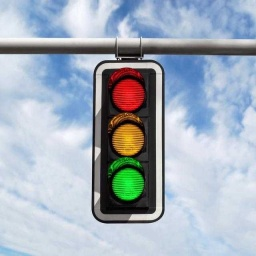traffic light: (92, 59, 165, 223)
